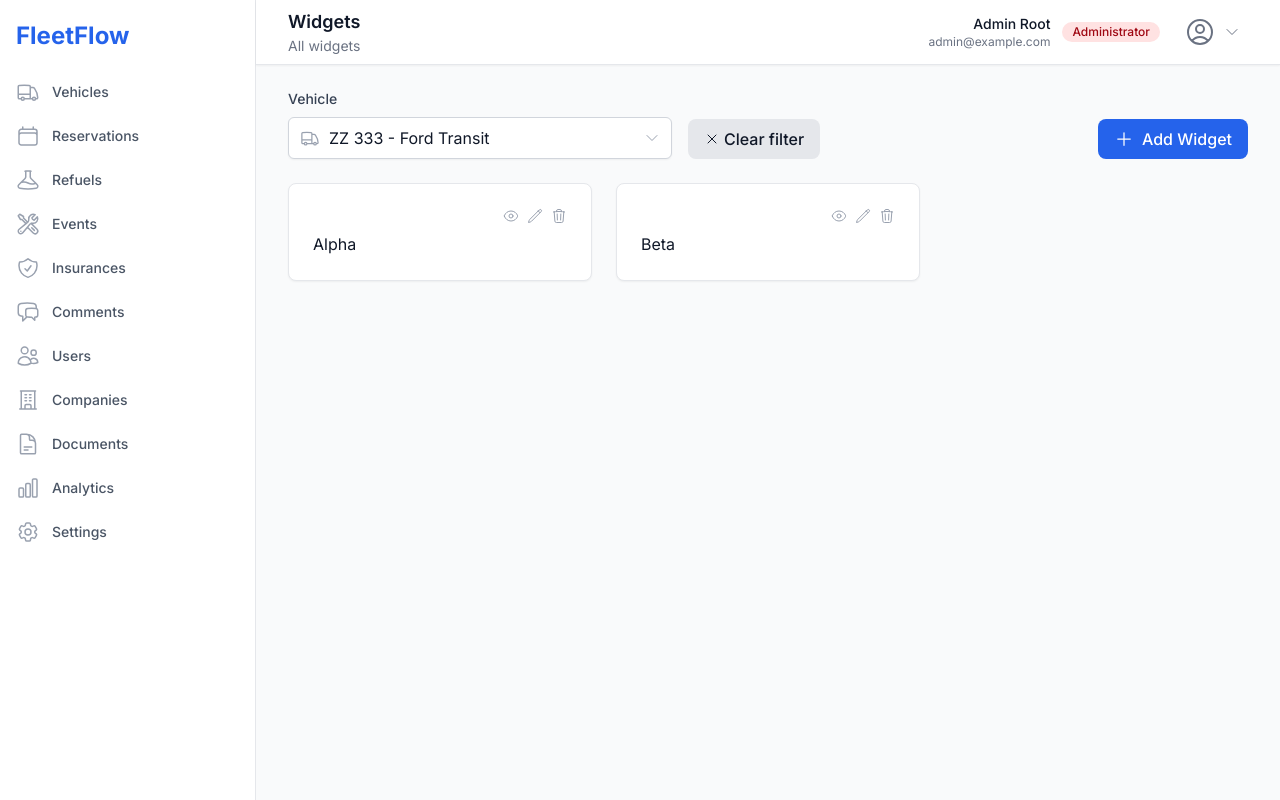
Test: ResourceList › clears the vehicle filter
Expected: the button "ZZ 333 - Ford Transit" is shown, [288, 117, 672, 159]
Click the button "Clear filter": (754, 139) [688, 119, 820, 159]
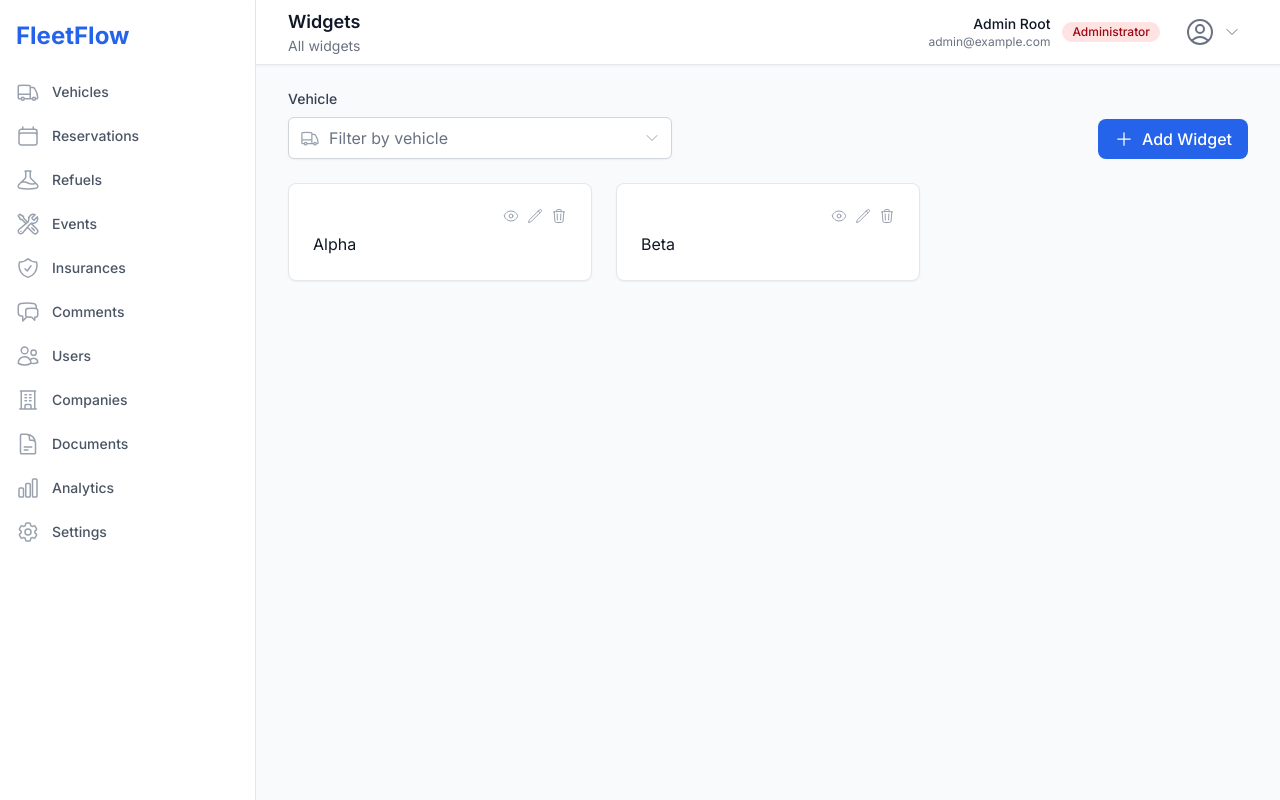
Expected: the button "Clear filter" is gone
